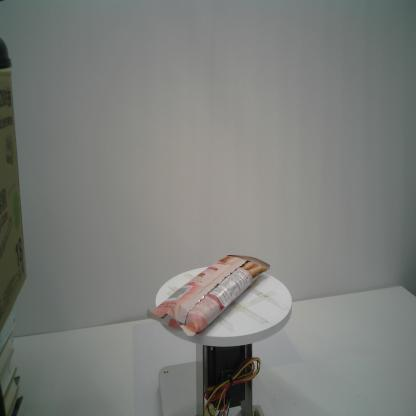Dessert: (146, 250, 271, 338)
